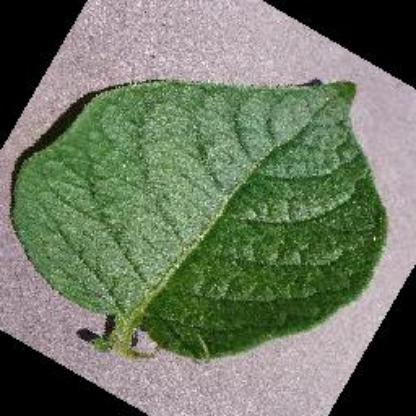Healthy-plant: (9, 63, 397, 365)
